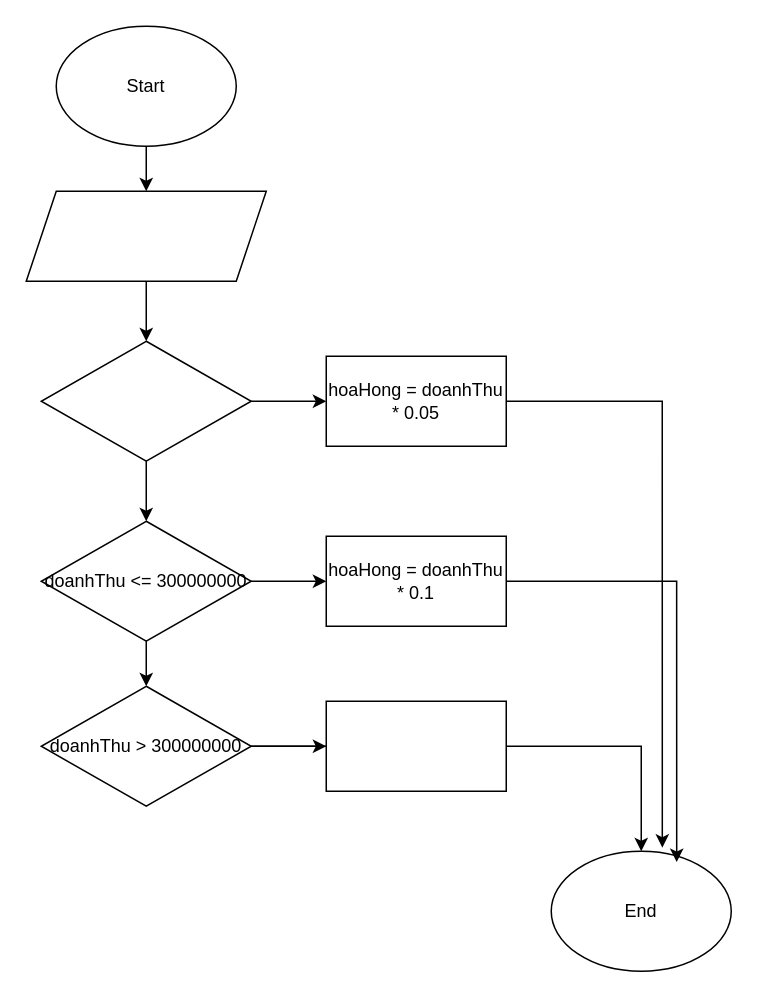
The diagram is 758 pixels wide and 998 high, and some of its shapes have lost their labels. The shapes that lost their labels are listed below. From the top down, each one's centre as x and y in pixels, then its label:
At [145,235]: "hoaHong,doanhThu".
At [145,400]: "doanhThu <= 100000000".
At [415,745]: "hoaHong = doanhThu * 0.2".
